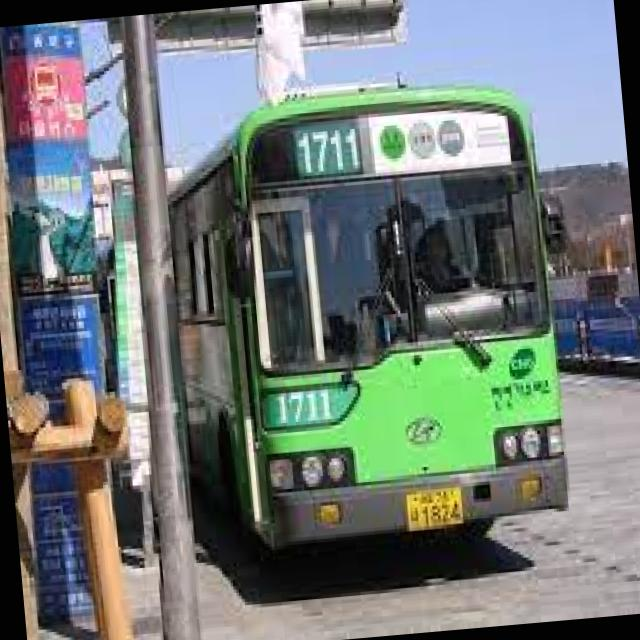bus-number: (296, 126, 360, 176)
